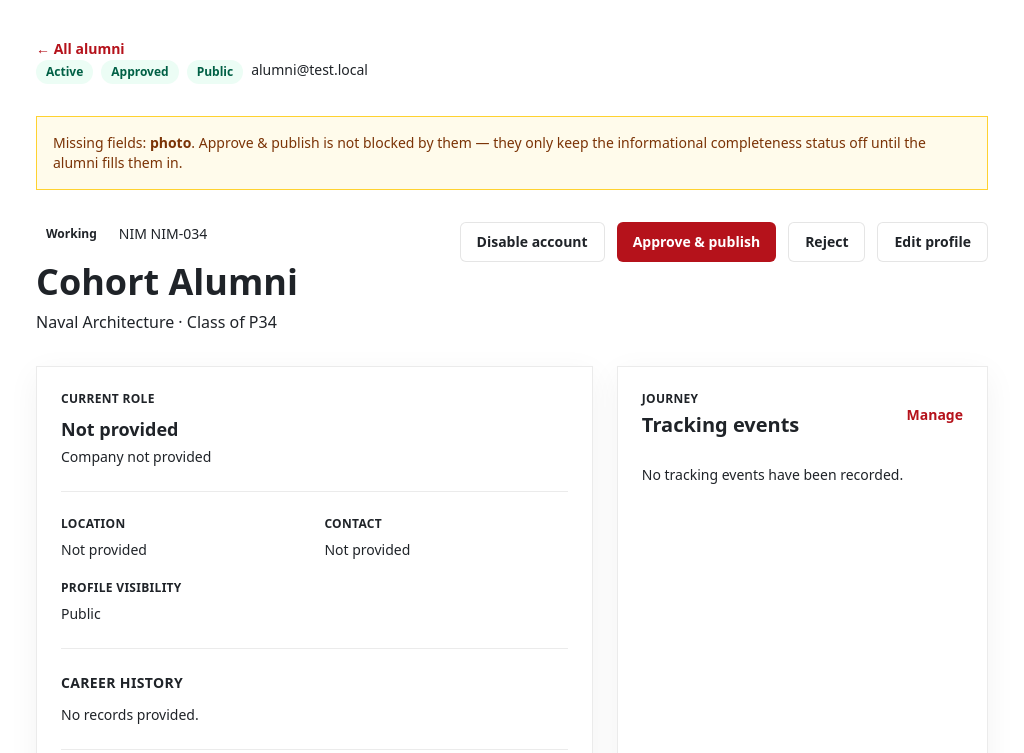
Alumni admin – tahunAngkatan edit form › does not render an editable Angkatan field
Click the button "Edit profile" at (933, 242), box [878,222,988,262]
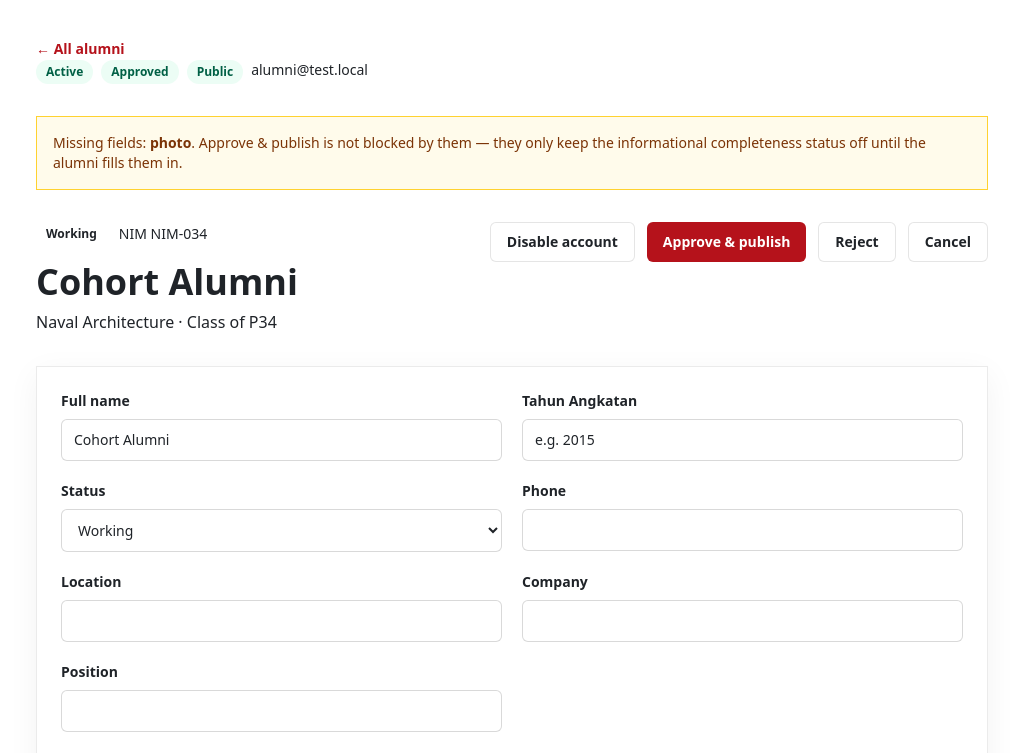
Now the number field with placeholder "e.g. 2015" is shown, box [522,419,963,461]
